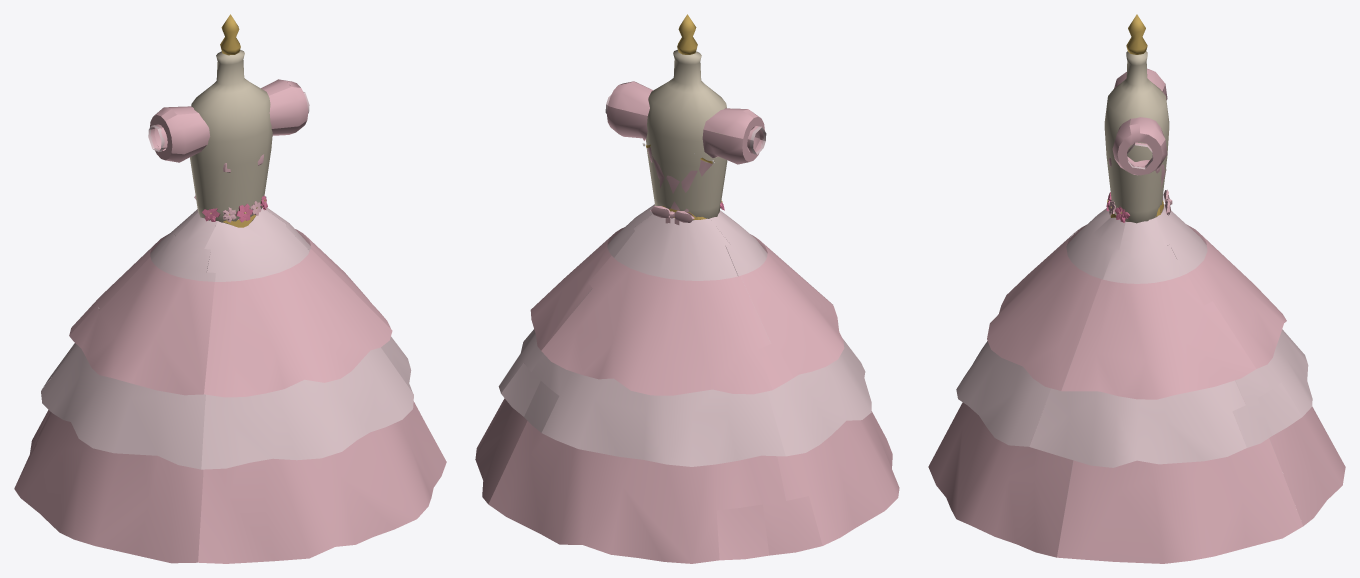
The model's file is mannequin_gown_ball.glb.
3 views of the same model, side by side, from view 1: azimuth 30°, elevation 25°; view 2: azimuth 150°, elevation 25°; view 3: azimuth 270°, elevation 25° (orthographic).
Visible parts, largest first — view 1: mannequin_gown_ball; view 2: mannequin_gown_ball; view 3: mannequin_gown_ball.
Part boxes in pixels (x1,y1,x2,y2): mannequin_gown_ball: (14,14,446,563); mannequin_gown_ball: (475,14,899,563); mannequin_gown_ball: (928,14,1345,563).
Size of what is drawn, in the model's own units: 1.38 by 1.71 by 1.36.
